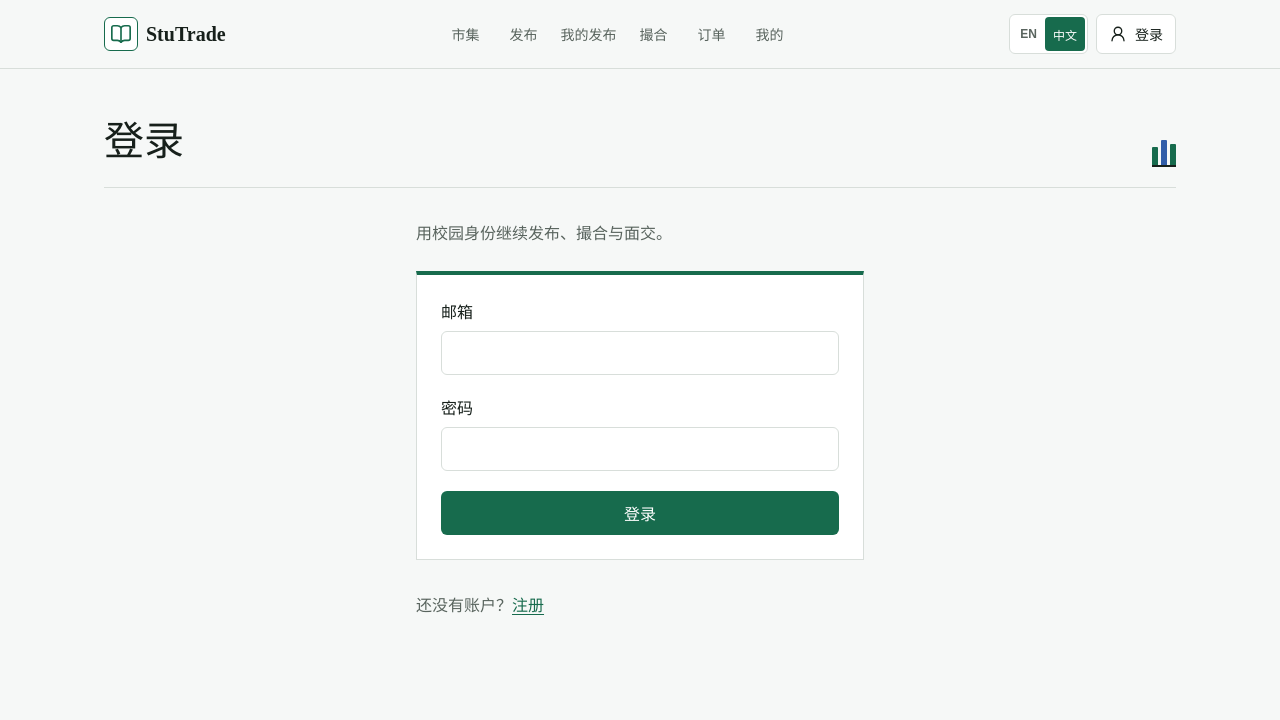
authentication › maps invalid credentials without exposing the service detail
The width and height of the screenshot is (1280, 720).
Type "lin@example.edu" into the field labelled "邮箱".
click(640, 353); type("lin@example.edu")  # box [441,331,839,375]
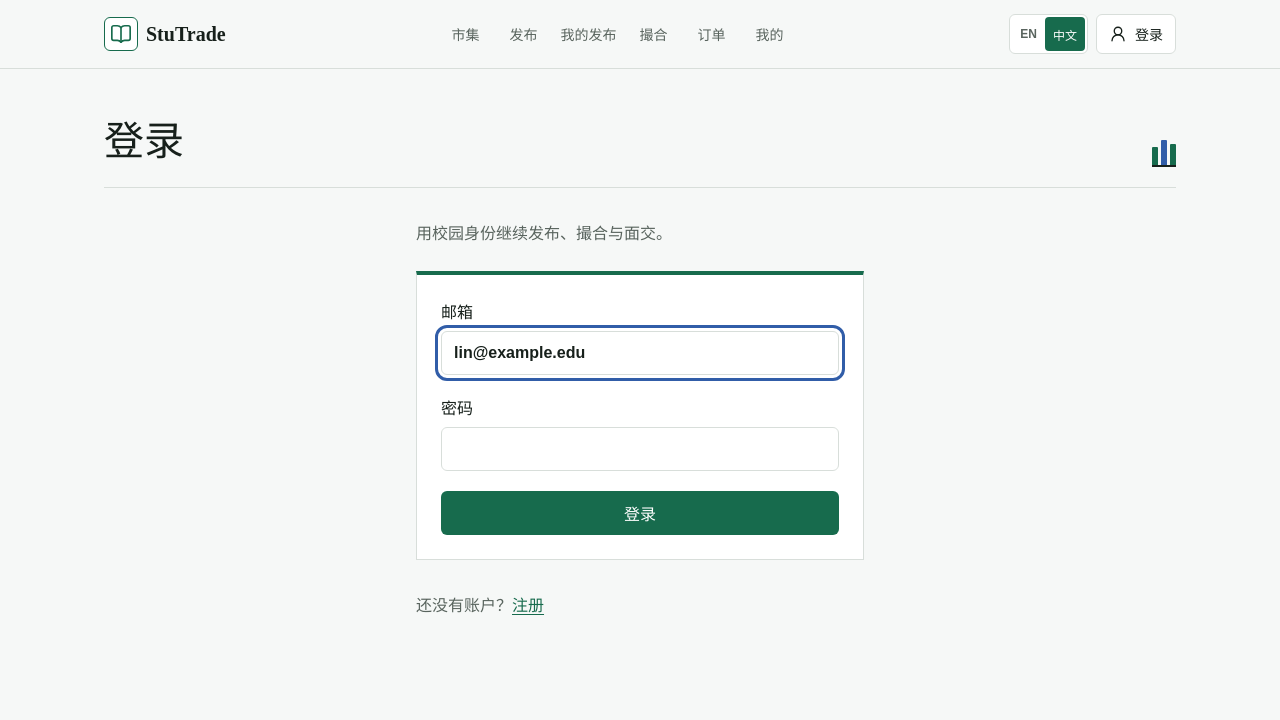
Type "incorrect" into the password field labelled "密码".
click(640, 449); type("incorrect")  # box [441,427,839,471]
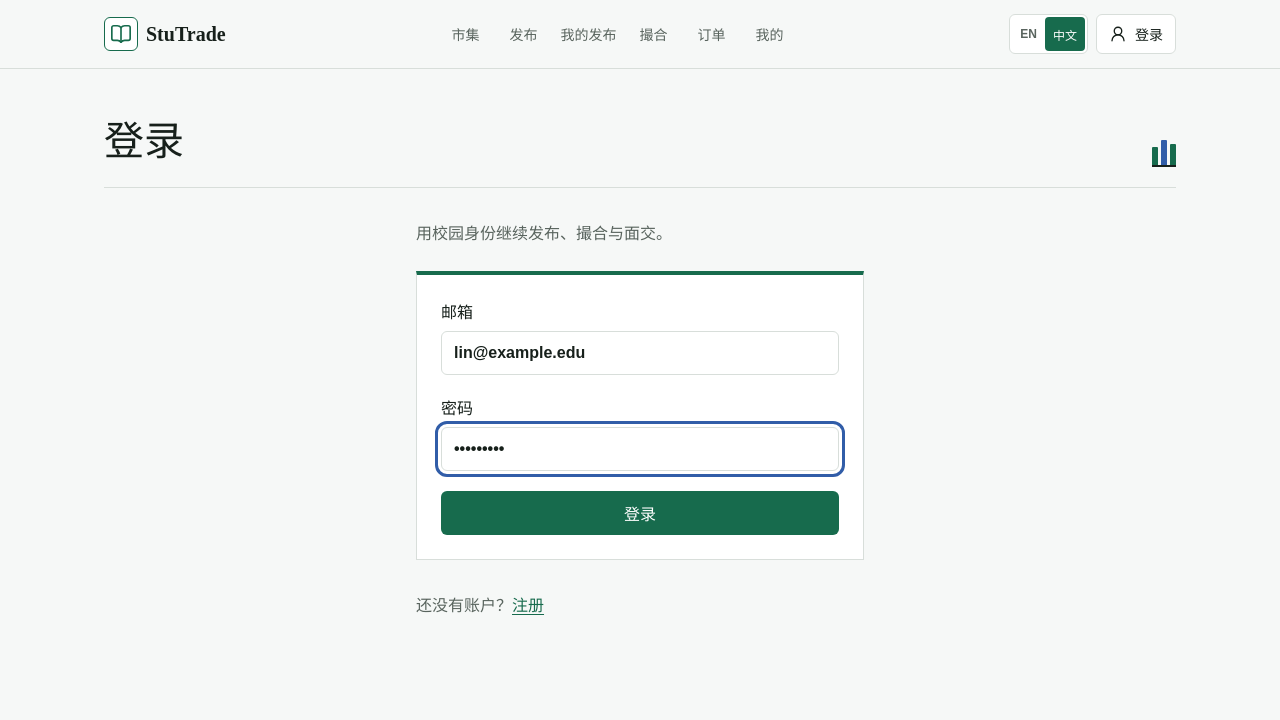
Click the button "登录".
click(640, 513)  # box [441,491,839,535]
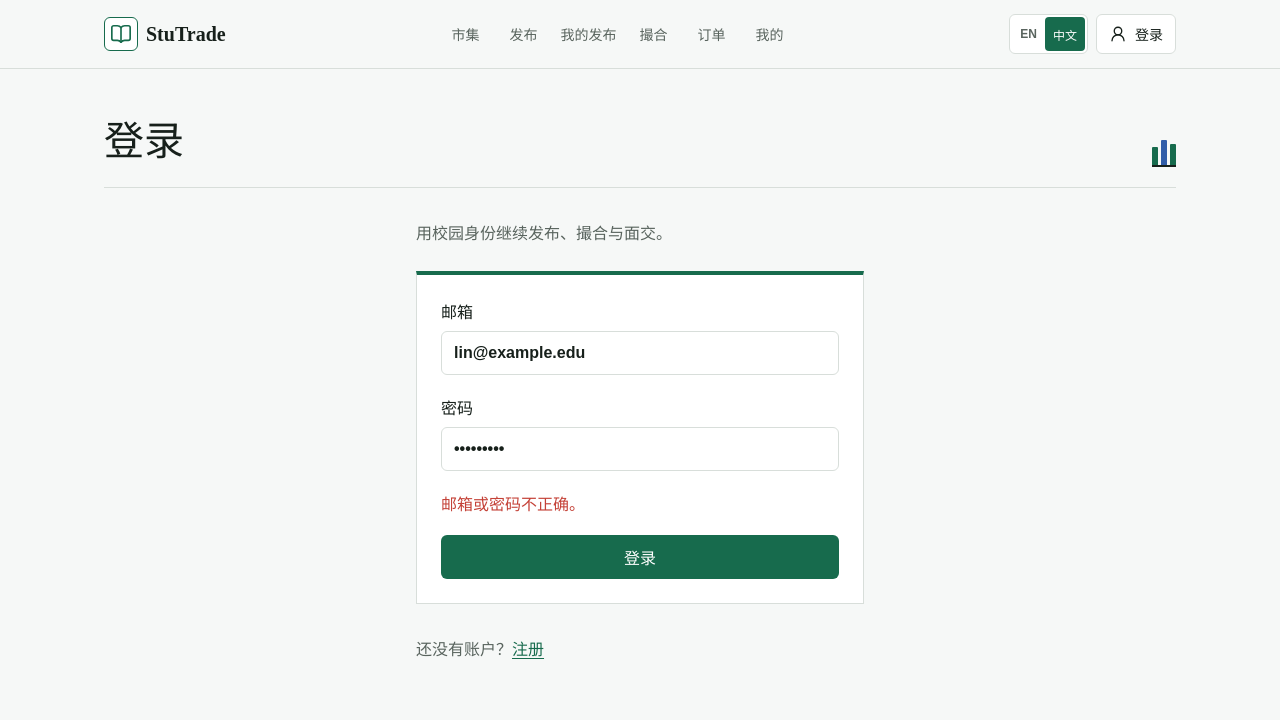
Expected: the message does not show "Internal detail", [441,496,585,513]
Now the message reads "邮箱或密码不正确。", box [441,496,585,513]
